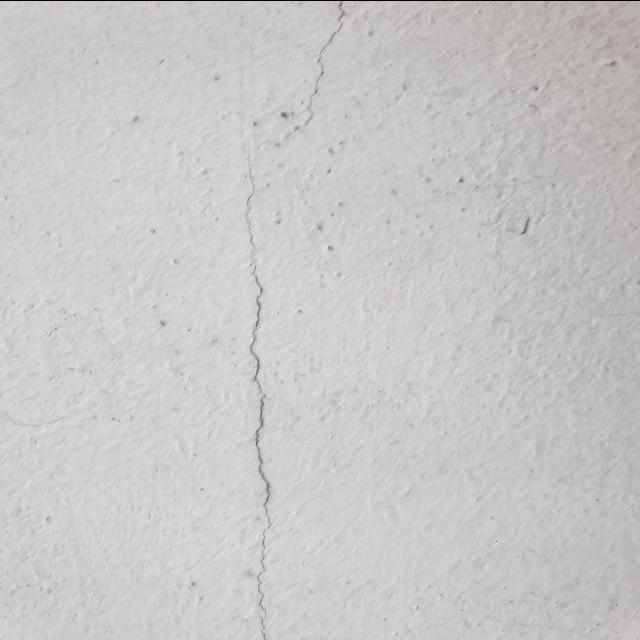SurfaceCrack: (210, 0, 329, 640)
